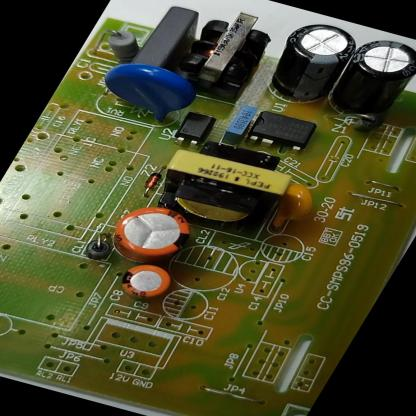Cap1: (91, 194, 211, 272)
Cap2: (103, 254, 186, 310)
Cap3: (252, 13, 370, 113)
Cap4: (313, 29, 416, 132)
MOSFET: (235, 105, 327, 158)
Mov: (76, 49, 212, 131)
Resistor: (86, 18, 151, 65)
Transformer: (135, 131, 313, 243), (158, 0, 288, 106)
